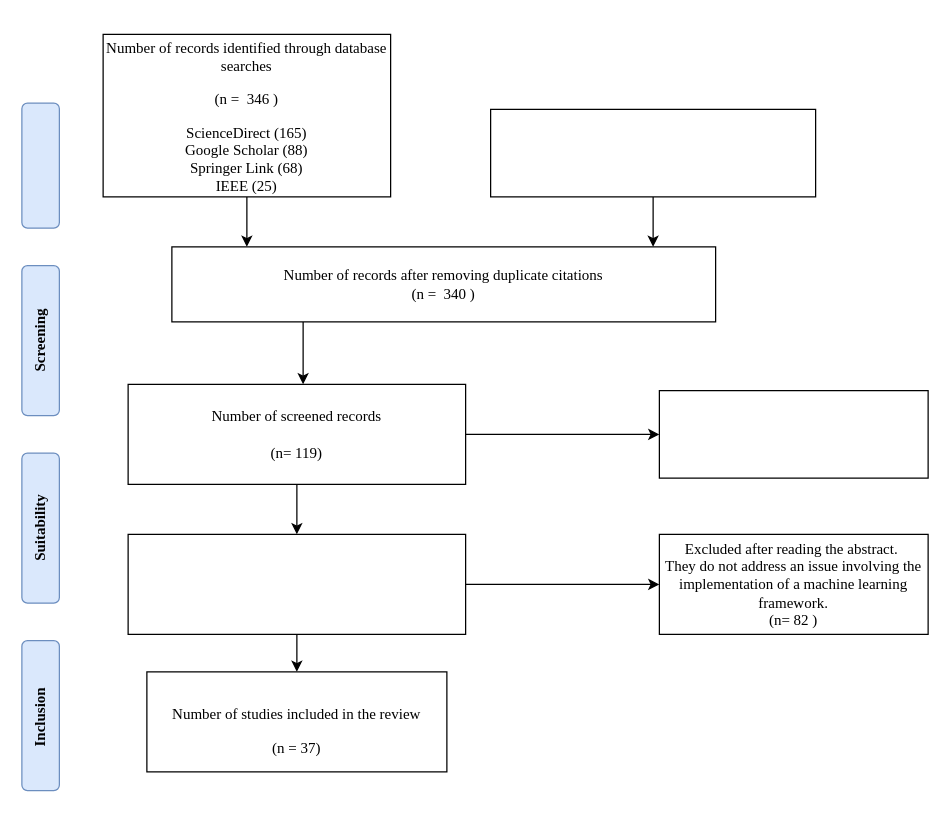
Image size: 950x813. Some labels were removed from this diagram. Each missing label, with the centre of its shape:
Detection: (40,165)
Number of additional records identified through other sources (n = 18): (652,152)
Number of full-text articles evaluated for eligibility (n= 37 ): (296,583)
Number of records excluded after reading the title (n= 227 ): (793,433)
